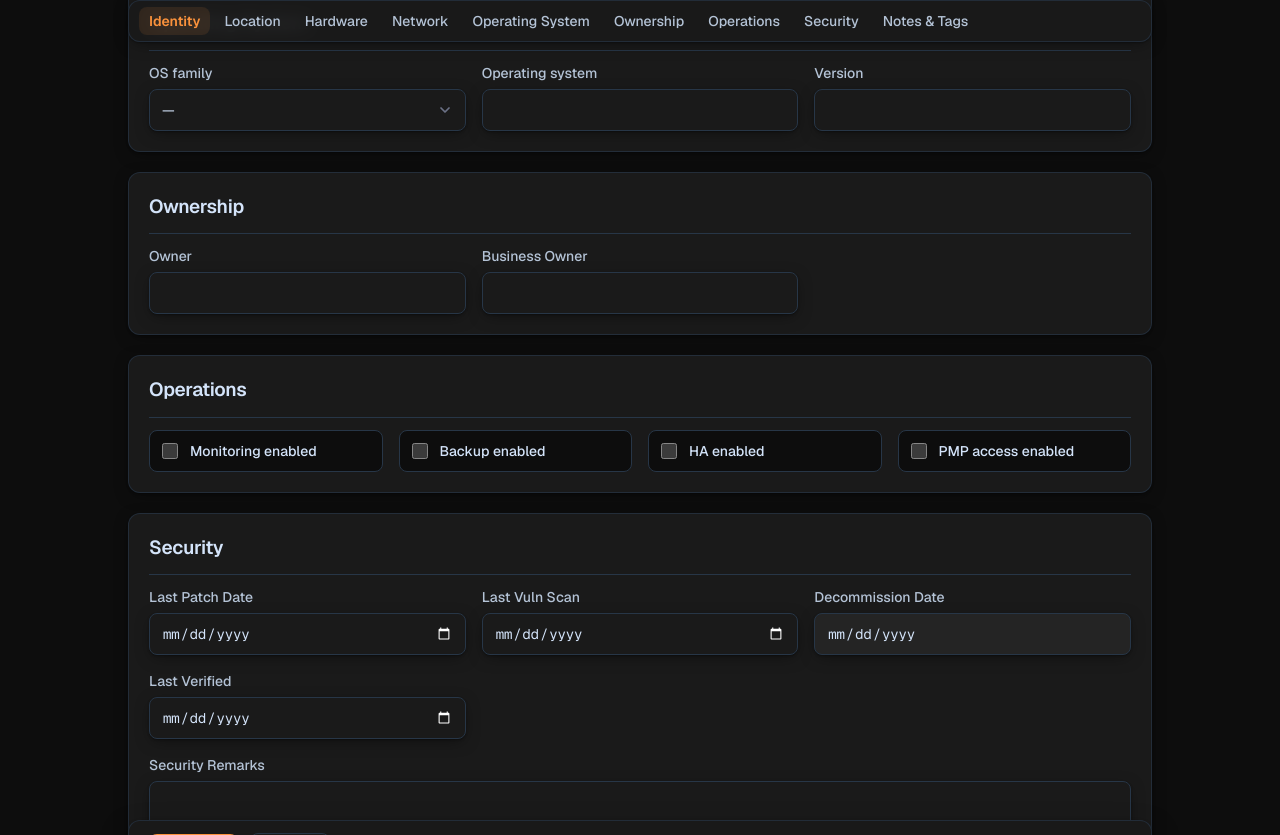
Test case: VmFormPage › shows backup_location field only when backup is enabled
(page scrolled)
expect the field labelled "Backup Location" is not shown: met
Toggle backup on
Click the checkbox labelled "Backup enabled": (420, 451) [412,443,428,459]
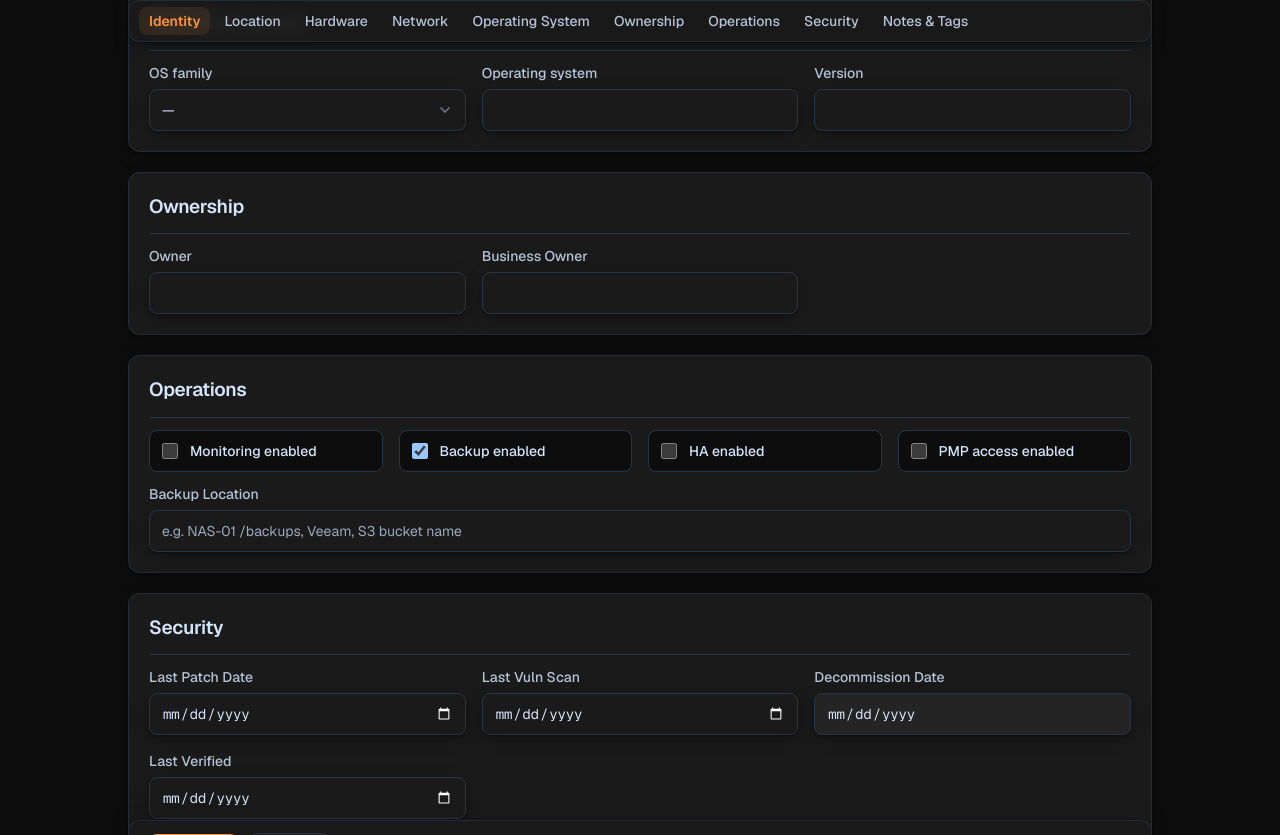
expect the field labelled "Backup Location" is shown: met, box [149,510,1131,552]
Toggle backup off
Click the checkbox labelled "Backup enabled": (420, 451) [412,443,428,459]
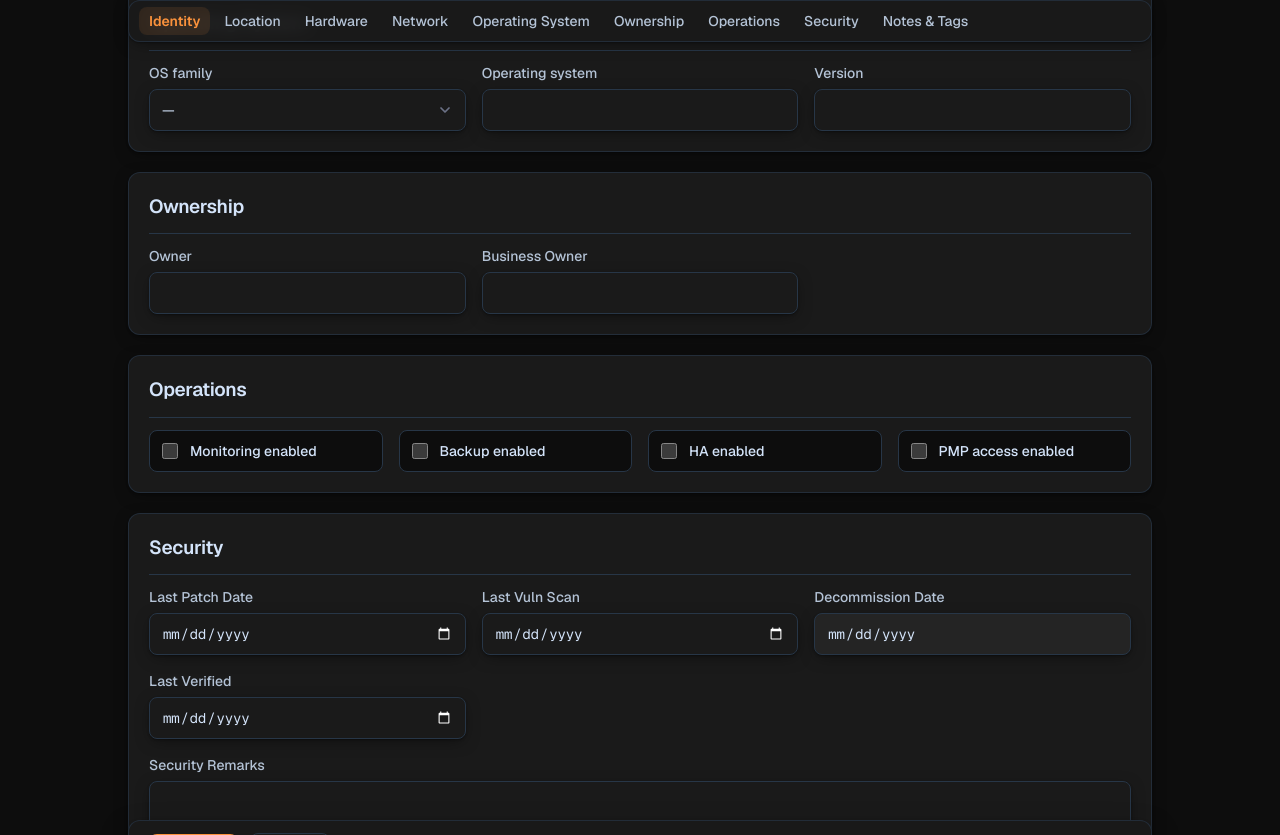
expect the label labelled "Backup Location" is gone: met
